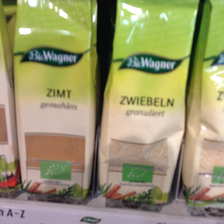spices: (101, 1, 200, 202), (14, 1, 97, 201)
